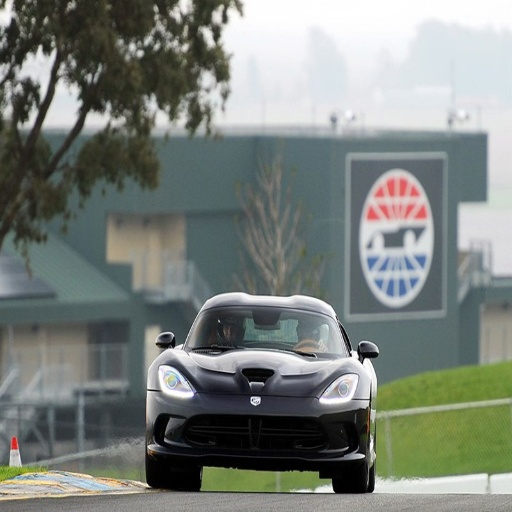front_bumper: (150, 373, 367, 463)
hood: (172, 349, 353, 393)
trunk: (322, 145, 473, 231)
